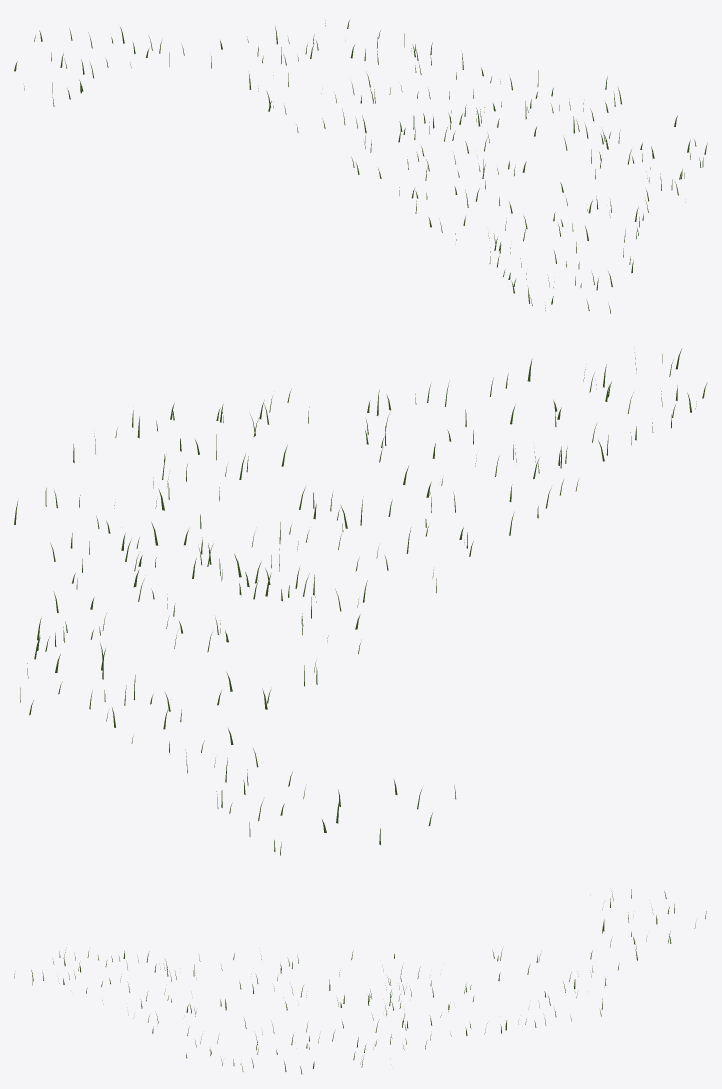
3 views of the same model, one above another, from view 1: azimuth 30°, elevation 25°; view 2: azimuth 150°, elevation 25°; view 3: azimuth 270°, elevation 25° (orthographic). The views are drawn at different scales.
Visible parts, largest first — view 1: GrassPatch; view 2: GrassPatch; view 3: GrassPatch.
Boxes of the visible parts, box(x1,y1,x2,y2) form: GrassPatch: box(14, 20, 707, 313); GrassPatch: box(14, 349, 707, 855); GrassPatch: box(14, 889, 706, 1074).
Bounding box in the file's own units: 12.35 × 0.4918 × 19.9.
